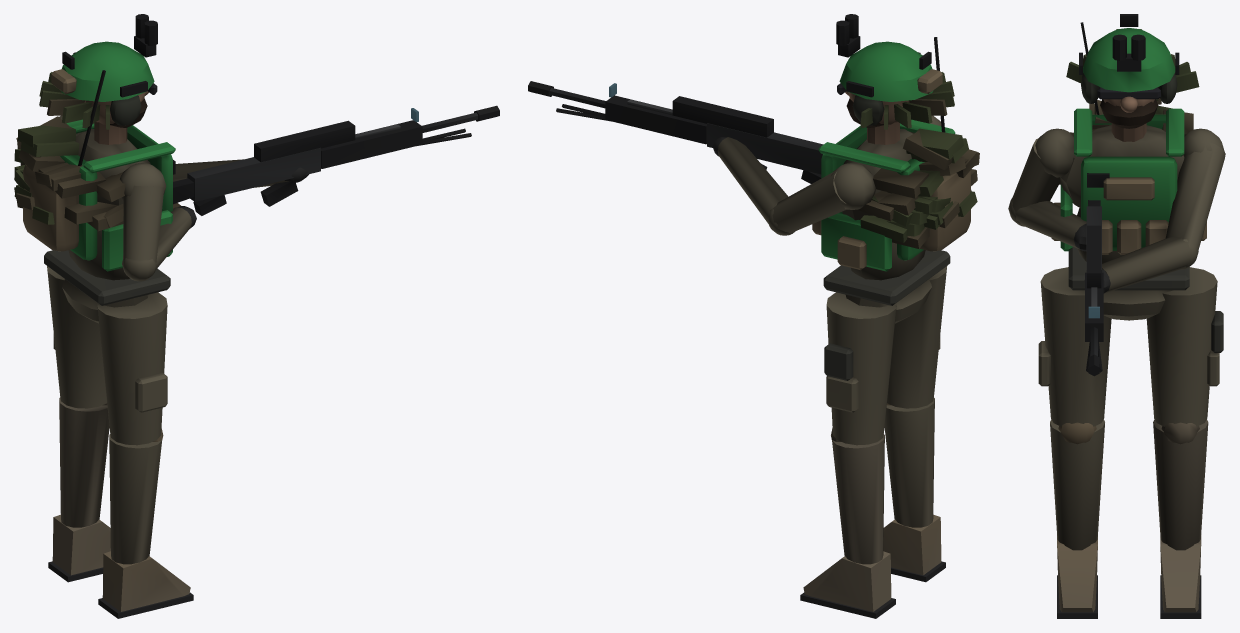
The model's file is u_sniper.glb.
3 views of the same model, side by side, from view 1: azimuth 30°, elevation 25°; view 2: azimuth 150°, elevation 25°; view 3: azimuth 270°, elevation 25° (orthographic). The views are drawn at different scales.
Parts seen in each view (by area): view 1: Sniper_Walls, Sniper_Details, Sniper_shL, Sniper_shR, Sniper_thL, Sniper_thR; view 2: Sniper_Walls, Sniper_Details, Sniper_shR, Sniper_shL, Sniper_thR, Sniper_thL; view 3: Sniper_Walls, Sniper_Details, Sniper_shR, Sniper_shL, Sniper_thR, Sniper_thL.
Part boxes in pixels (x1,y1,x2,y2): Sniper_Walls: (23,36,499,323); Sniper_Details: (14,14,471,412); Sniper_shL: (98,429,193,618); Sniper_shR: (48,397,110,582); Sniper_thL: (97,292,167,445); Sniper_thR: (47,266,106,408); Sniper_Walls: (528,36,971,323); Sniper_Details: (556,14,979,412); Sniper_shR: (800,428,895,618); Sniper_shL: (883,397,945,582); Sniper_thR: (826,292,896,445); Sniper_thL: (887,266,946,408); Sniper_Walls: (1008,28,1225,376); Sniper_Details: (1038,14,1223,386); Sniper_shR: (1153,419,1208,618); Sniper_shL: (1050,419,1104,618); Sniper_thR: (1146,267,1217,426); Sniper_thL: (1040,267,1111,426).
Bounding box in the file's own units: 0.5239 × 0.62 × 0.2123.
